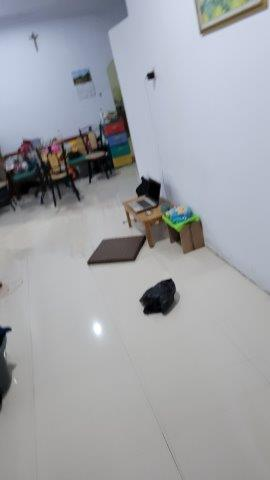plastik: (140, 278, 178, 316)
